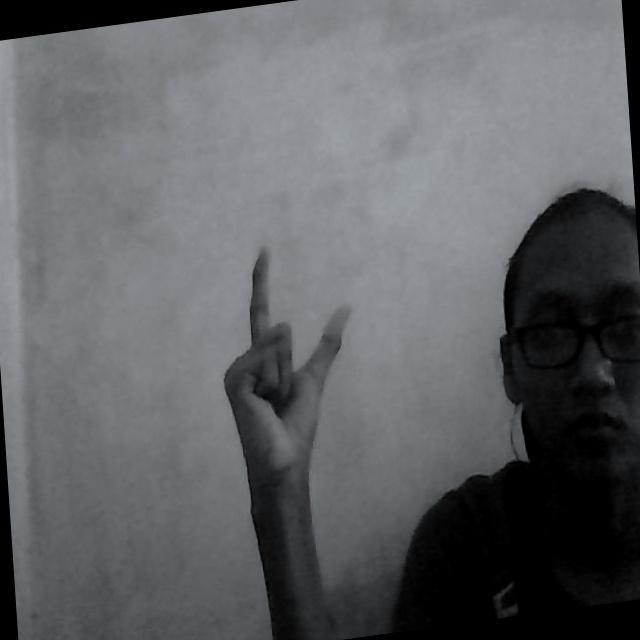U: (216, 236, 370, 427)
